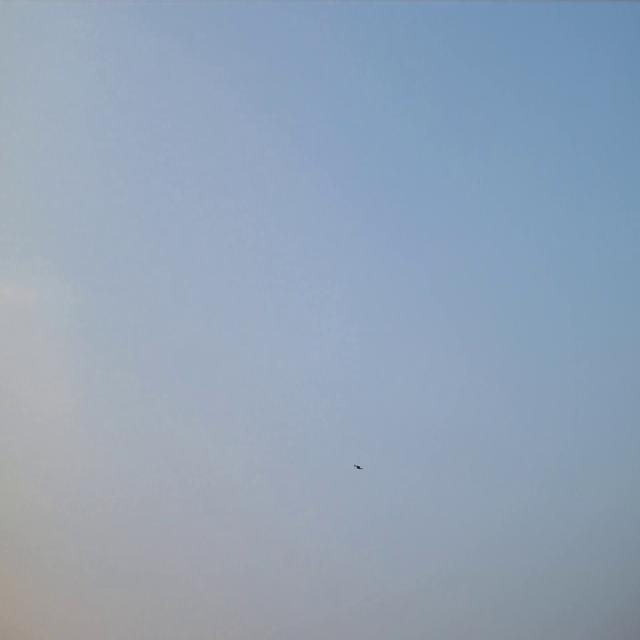UAV: (356, 466, 359, 468)
